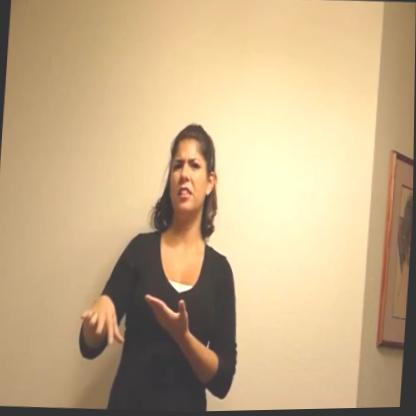Expensive: (55, 244, 205, 379)
